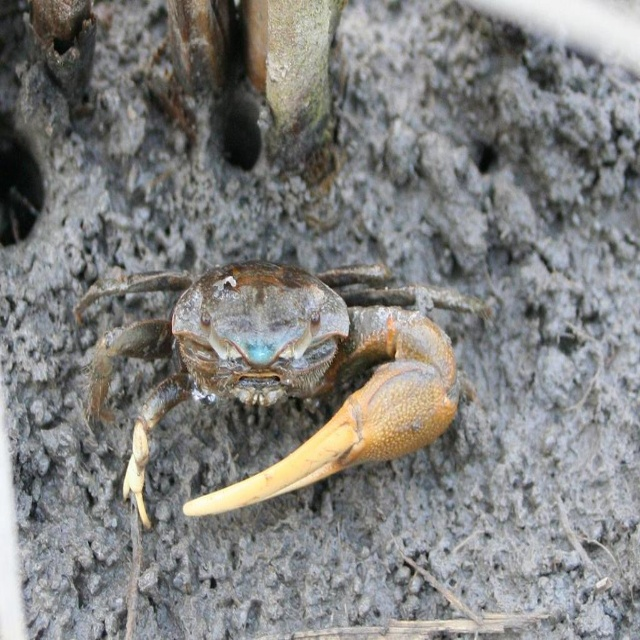Crab: (73, 260, 498, 529)
